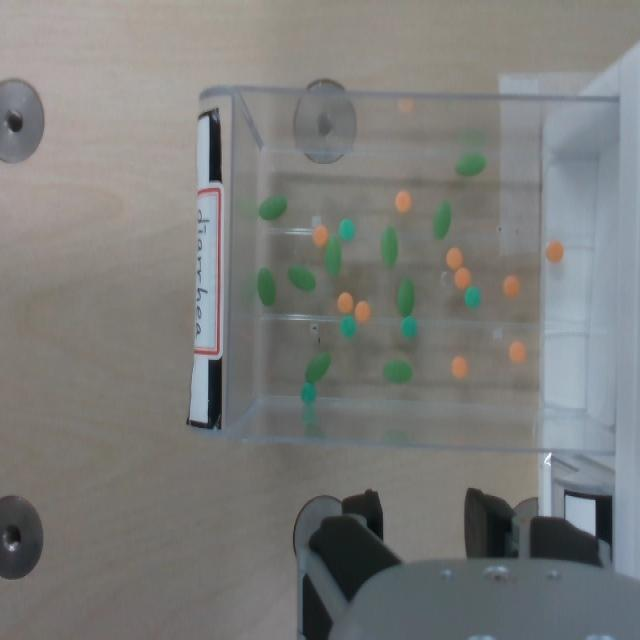famodine: (339, 219, 356, 242), (340, 314, 357, 337), (465, 286, 482, 308), (338, 219, 355, 241), (401, 316, 417, 339), (464, 285, 480, 308), (401, 317, 417, 339), (340, 315, 355, 337), (301, 383, 315, 403), (302, 384, 316, 402)
otillen_tab: (454, 151, 488, 176), (304, 352, 331, 383), (257, 195, 288, 221), (256, 268, 276, 307), (305, 352, 330, 383), (286, 265, 316, 290), (455, 152, 486, 176), (258, 195, 287, 220), (433, 201, 452, 238), (433, 200, 451, 239), (288, 265, 315, 291), (384, 360, 413, 383), (257, 268, 275, 305), (381, 226, 398, 265), (397, 278, 414, 317), (325, 234, 341, 275), (381, 227, 398, 265), (384, 360, 412, 383), (325, 236, 341, 276), (397, 279, 414, 316)
samsung_octylonium_tab: (454, 267, 471, 291), (546, 240, 563, 263), (354, 300, 371, 323), (446, 247, 462, 271), (502, 274, 520, 295), (509, 341, 526, 363), (455, 266, 471, 289), (451, 356, 467, 379), (312, 224, 328, 247), (503, 276, 520, 297), (446, 247, 462, 269), (354, 302, 371, 322), (395, 191, 411, 212), (337, 292, 353, 313), (338, 292, 353, 314), (510, 342, 526, 362), (451, 357, 467, 377), (396, 191, 411, 212), (313, 225, 328, 246), (547, 240, 562, 261)
